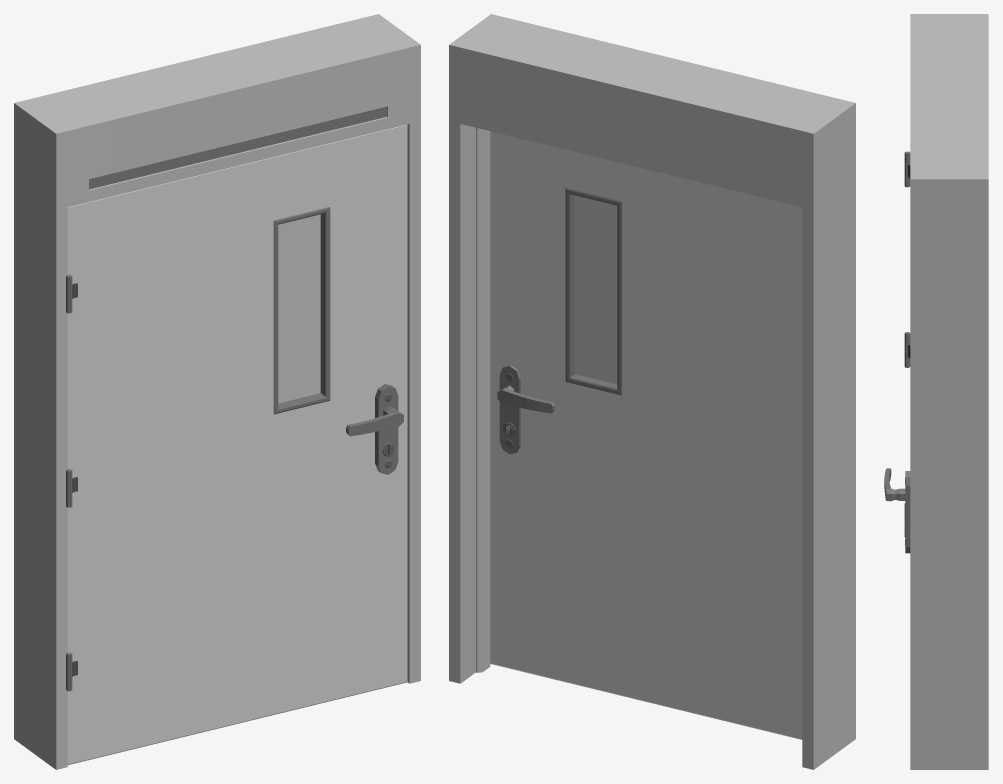
The model's file is M_SingleDoor01_1.fbx.
3 renders of one model, left to right at view 1: azimuth 30°, elevation 25°; view 2: azimuth 150°, elevation 25°; view 3: azimuth 270°, elevation 25°, orthographic. The views are drawn at different scales.
Parts seen in each view (by area): view 1: M_SingleDoor01_1, M_SingleDoorHandle01; view 2: M_SingleDoor01_1, M_SingleDoorHandle01; view 3: M_SingleDoor01_1, M_SingleDoorHandle01.
Part boxes in pixels (<box>): M_SingleDoor01_1: <box>14,14,420,769</box>; M_SingleDoorHandle01: <box>346,406,403,436</box>; M_SingleDoor01_1: <box>449,14,855,769</box>; M_SingleDoorHandle01: <box>497,385,554,413</box>; M_SingleDoor01_1: <box>904,14,988,769</box>; M_SingleDoorHandle01: <box>884,468,905,501</box>.
Size of what is drawn, in the model's own units: 150 by 39.93 by 250.
